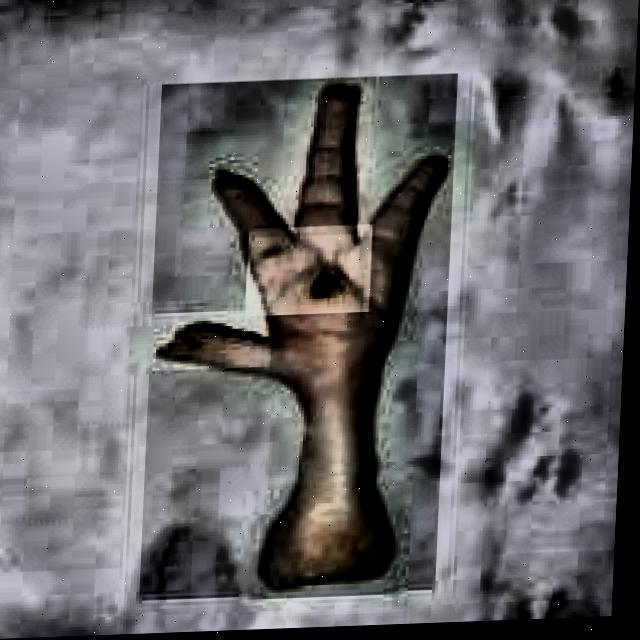Bumble foot: (148, 80, 456, 599), (157, 317, 272, 367), (306, 271, 349, 305)
